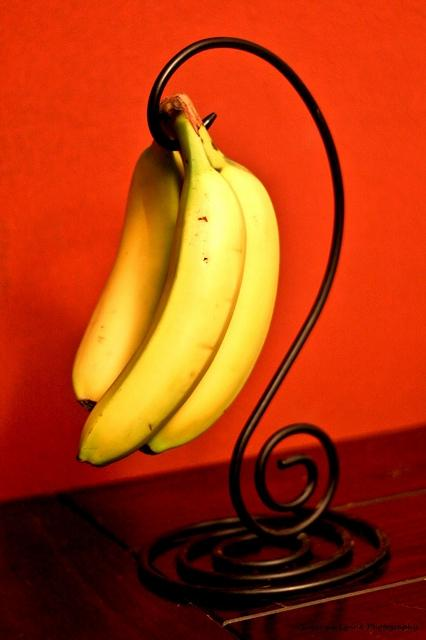banana: (76, 98, 247, 468), (139, 93, 280, 454), (72, 140, 186, 410)
